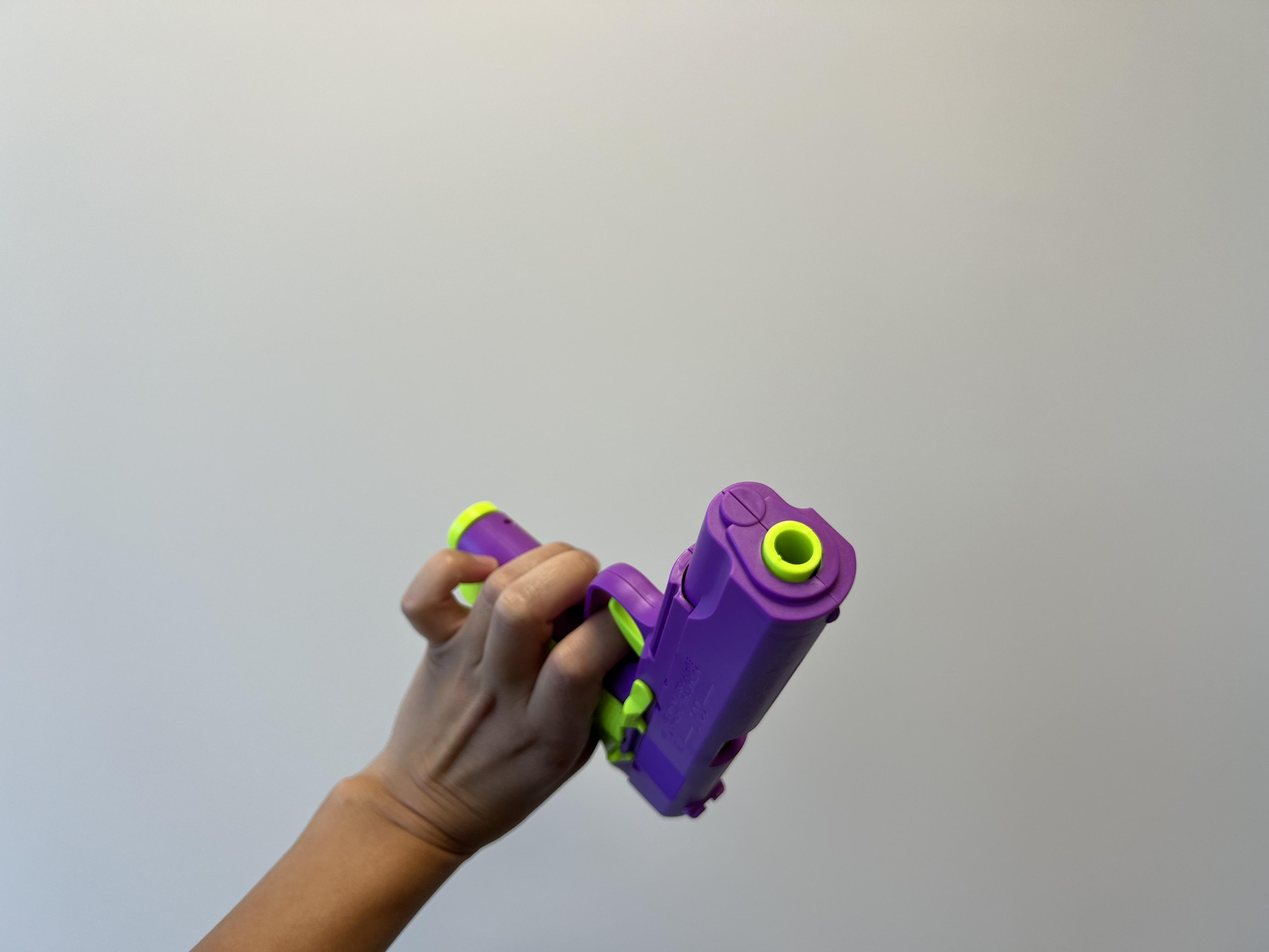Knife: (178, 534, 625, 952), (447, 477, 859, 826), (345, 534, 631, 858)
